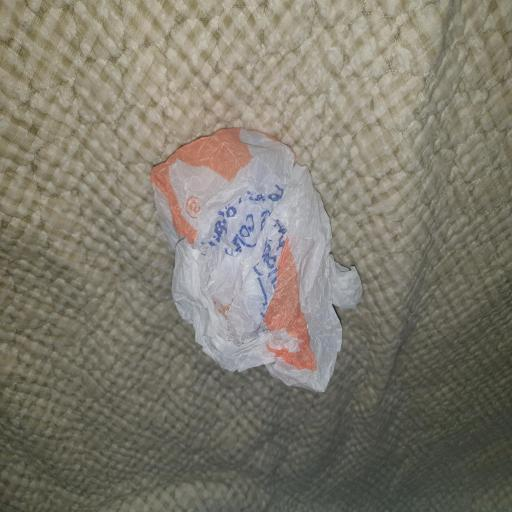plastic bag: (149, 116, 362, 386)
